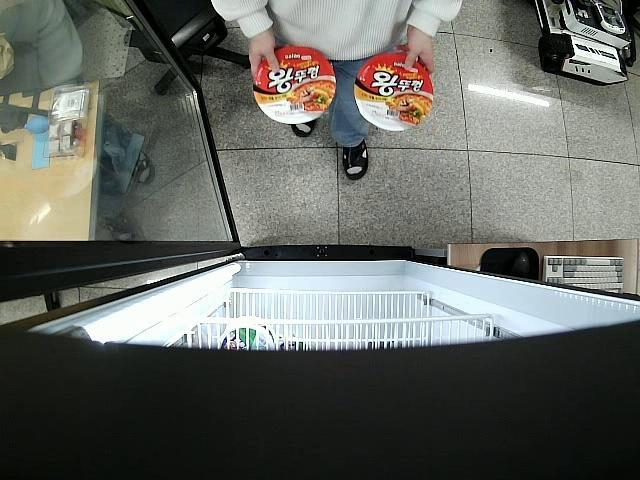10_wangTtukkeong: (254, 46, 336, 123), (355, 52, 434, 131)
